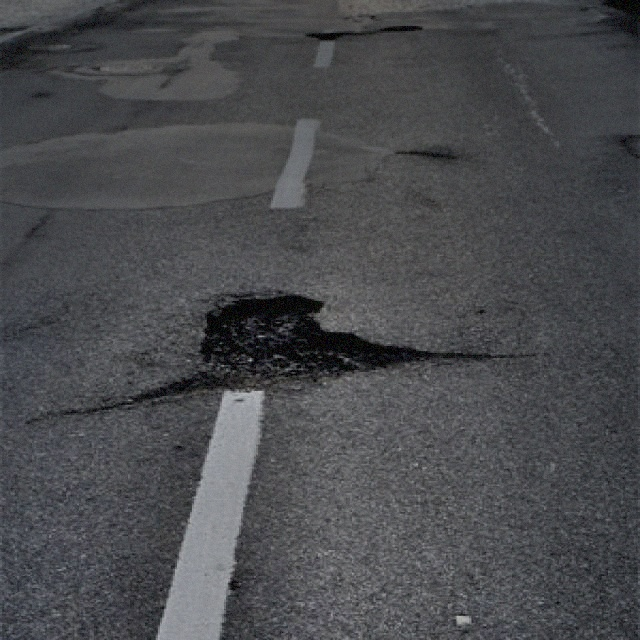pothole: (196, 284, 418, 412), (303, 17, 420, 40)
